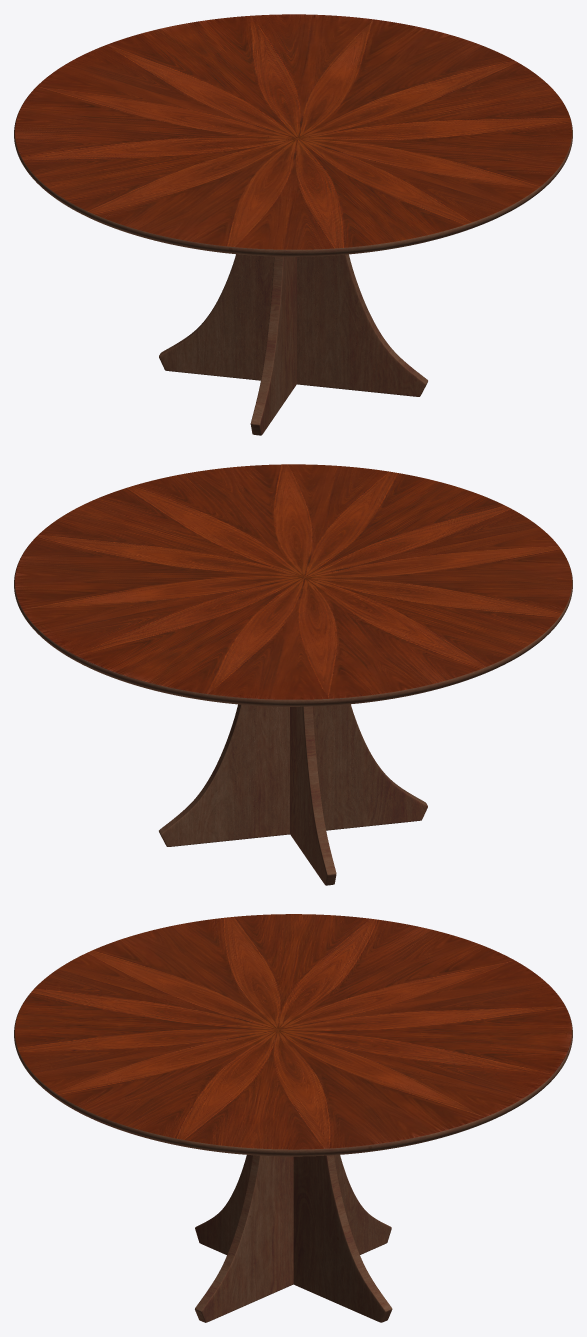
The model's file is Loop-table-larforma.glb.
The picture shows the model from 3 angles, top to bottom: view 1: azimuth 30°, elevation 25°; view 2: azimuth 150°, elevation 25°; view 3: azimuth 270°, elevation 25°; orthographic projection.
Visible parts, largest first — view 1: Tampo, Cube.003; view 2: Tampo, Cube.003; view 3: Tampo, Cube.003.
Boxes of the visible parts, x1=… form: Tampo: x1=14, y1=14, x2=572, y2=256; Cube.003: x1=159, y1=254, x2=427, y2=435; Tampo: x1=14, y1=464, x2=572, y2=706; Cube.003: x1=159, y1=704, x2=427, y2=885; Tampo: x1=14, y1=914, x2=572, y2=1156; Cube.003: x1=195, y1=1155, x2=392, y2=1322.
Size of the model in its own units: 1.6 by 0.7897 by 1.6.
2 materials, 2 textured.
